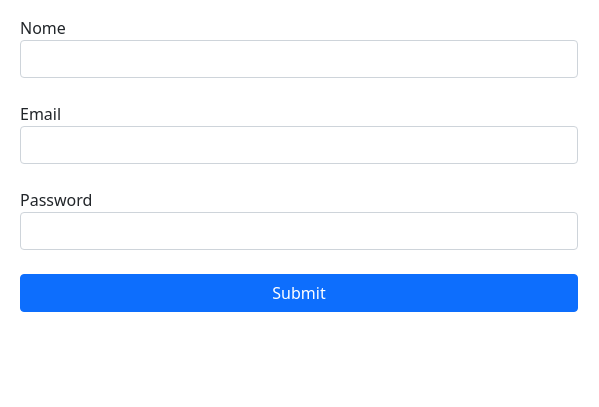
Test: App › open signup form
Type "Martins Gouveia" into the field named "name" at (299, 59), box [20,40,578,78]
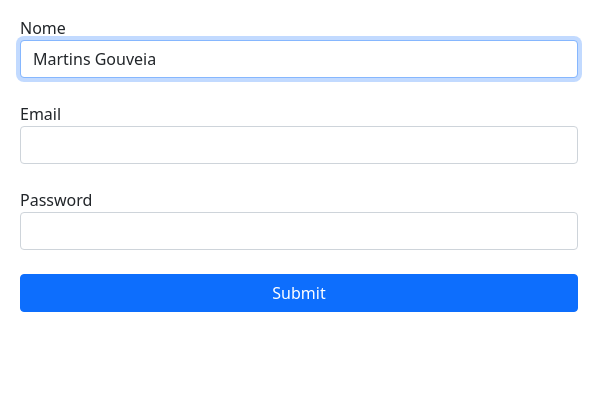
Type "goy@gmail.com" into the field named "email" at (299, 145), box [20,126,578,164]
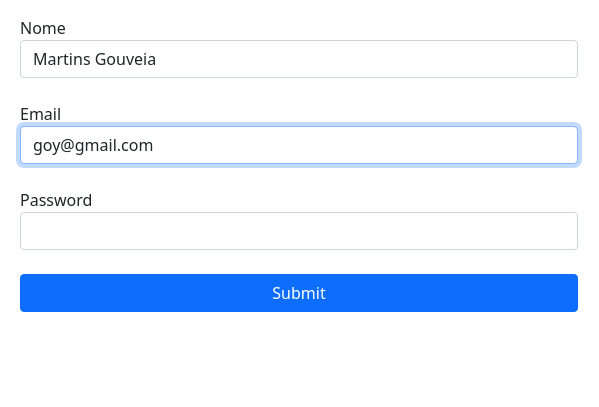
Type "1234567890" into the password field named "password" at (299, 231), box [20,212,578,250]
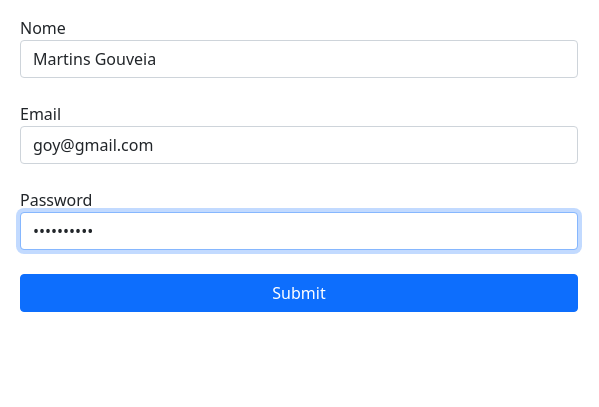
Click the button "Submit" at (299, 293), box [20,274,578,312]
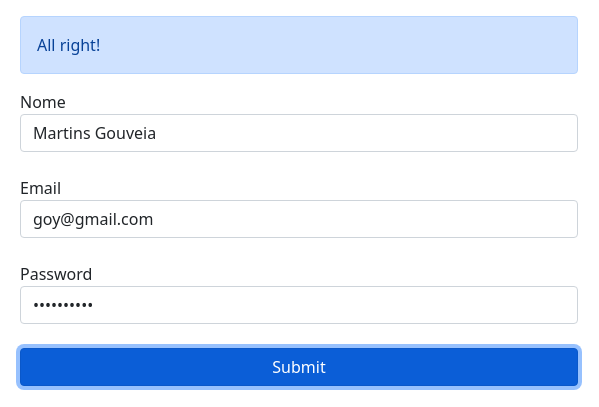
Expected: the text "All right!" is shown, [20,16,578,74]
